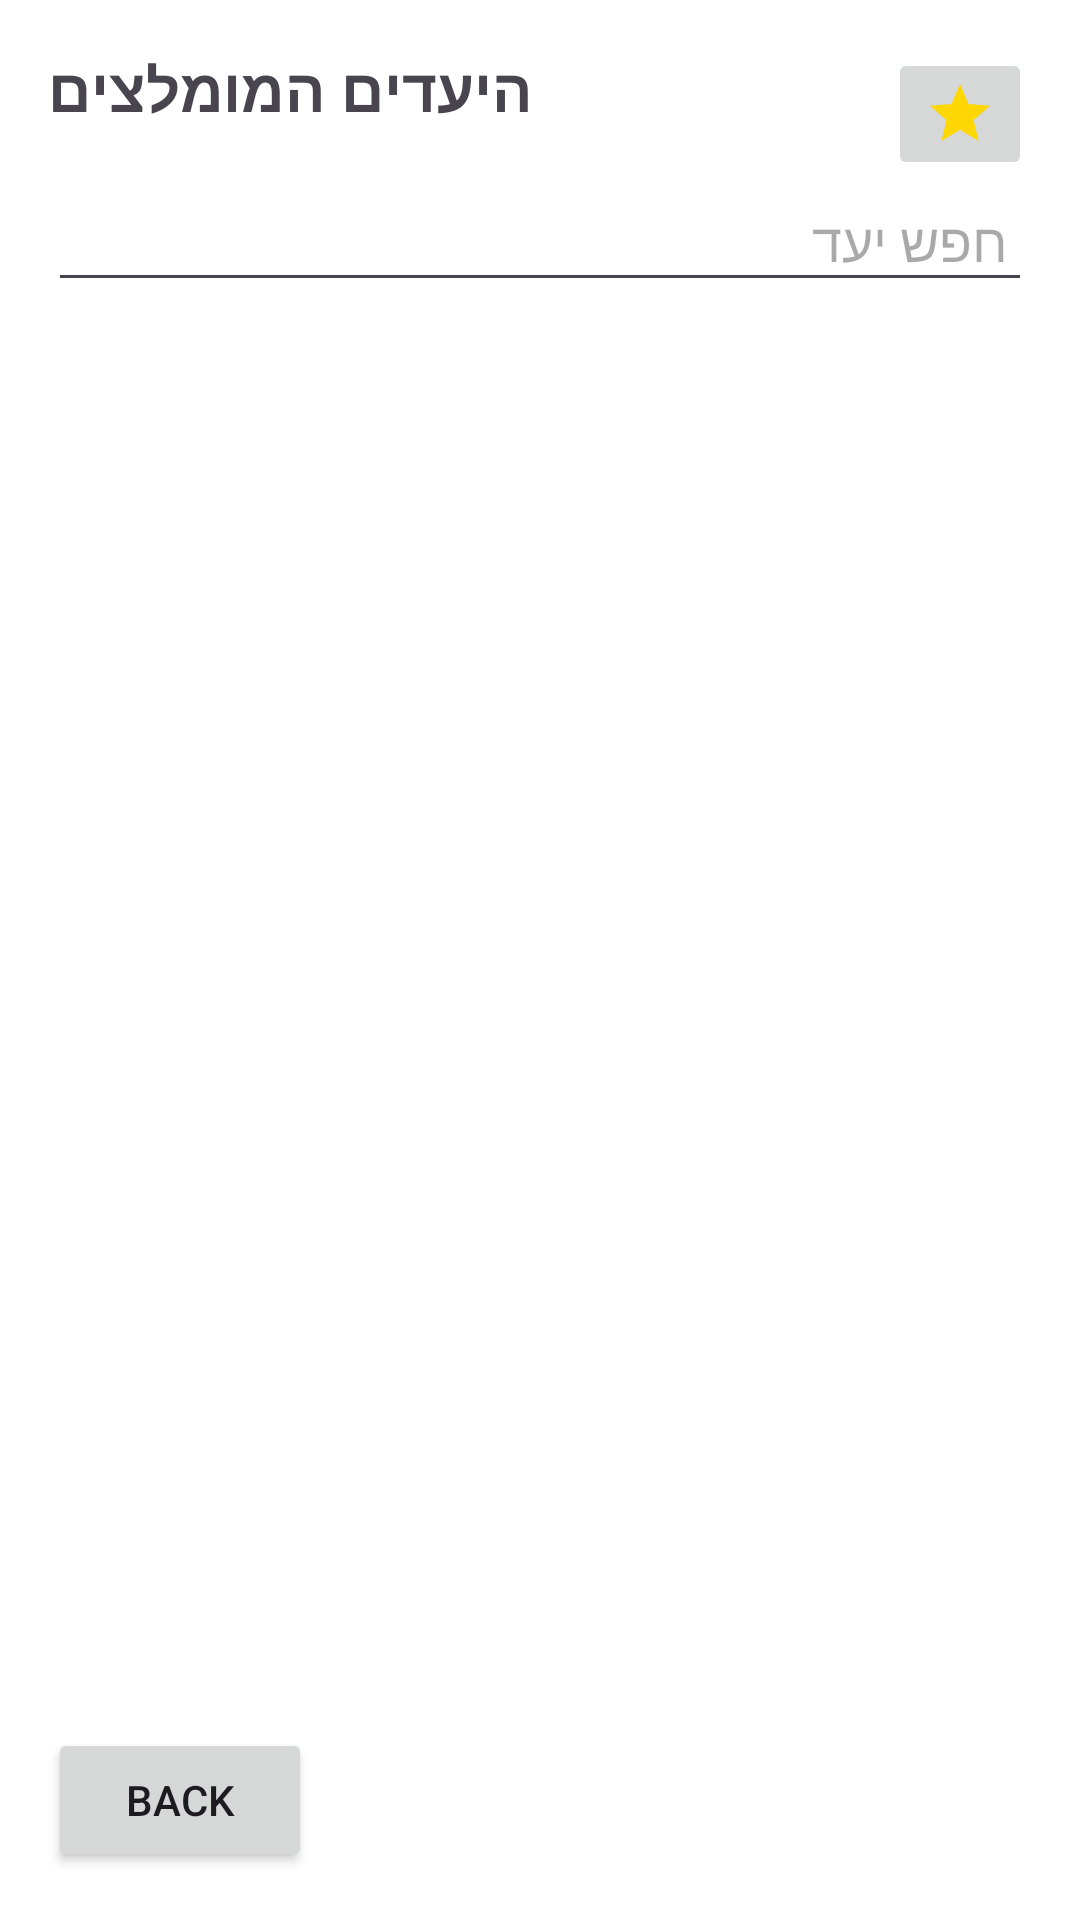

Icons on this 1080 × 1920 Android screen, each with its box as [x1=x1, y1=y1, x2=x2, y2=y2]:
star: [x1=900, y1=66, x2=1020, y2=162]
